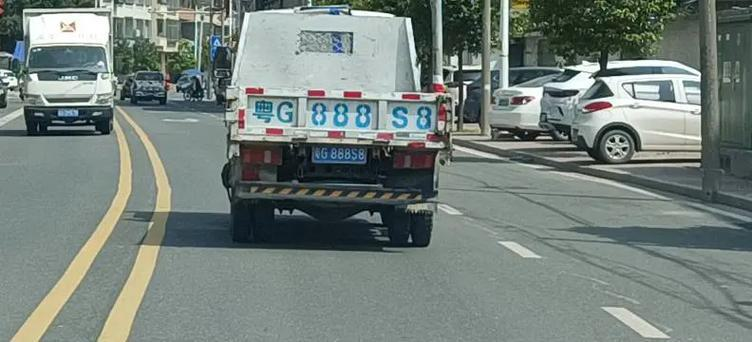bus: (11, 7, 116, 126)
car: (216, 1, 446, 250), (543, 59, 705, 163), (11, 12, 115, 131), (482, 59, 582, 136), (119, 59, 170, 113), (180, 63, 217, 104)
